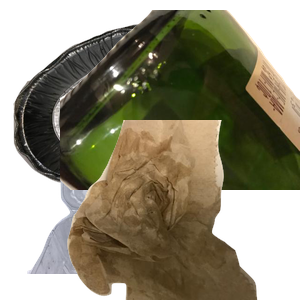glass: (60, 10, 300, 190)
metal: (11, 20, 251, 200)
plastic: (25, 120, 245, 300)
trash: (65, 120, 300, 300)
